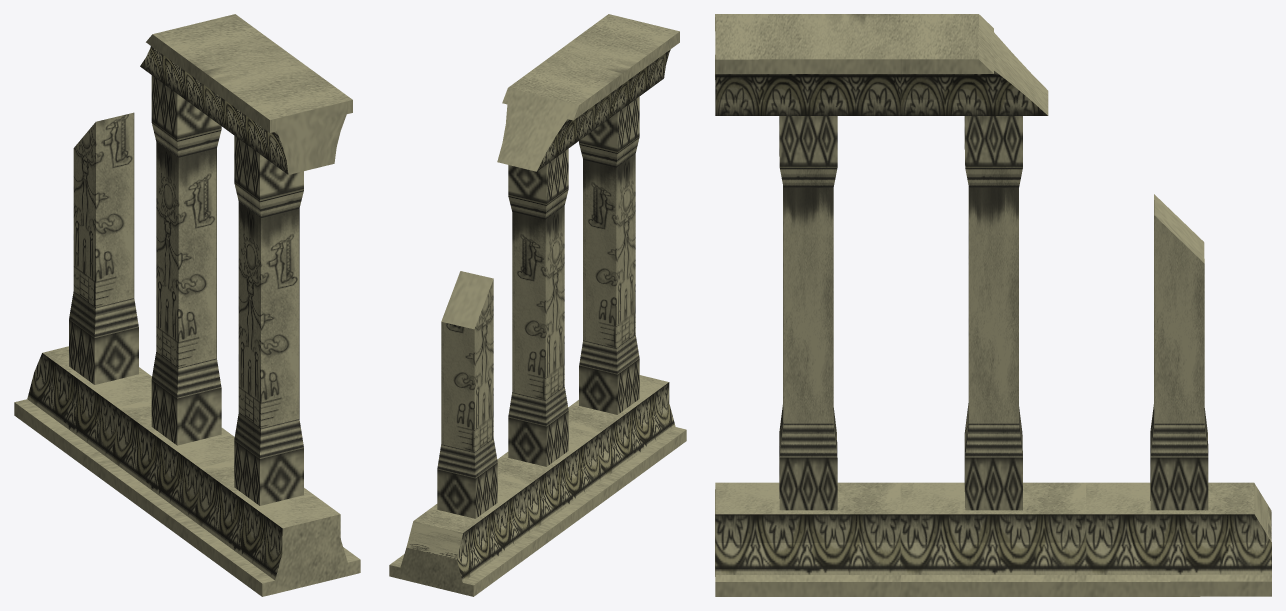
Rendered from StoneFence2.FBX.
3 views of the same model, side by side, from view 1: azimuth 30°, elevation 25°; view 2: azimuth 150°, elevation 25°; view 3: azimuth 270°, elevation 25° (orthographic). The views are drawn at different scales.
Parts seen in each view (by area): view 1: Railing008; view 2: Railing008; view 3: Railing008.
Part boxes in pixels (x1,y1,x2,y2): Railing008: (14, 14, 360, 596); Railing008: (389, 14, 686, 596); Railing008: (715, 14, 1271, 596).
Bounding box in the file's own units: 8.42 × 38.86 × 36.77.
